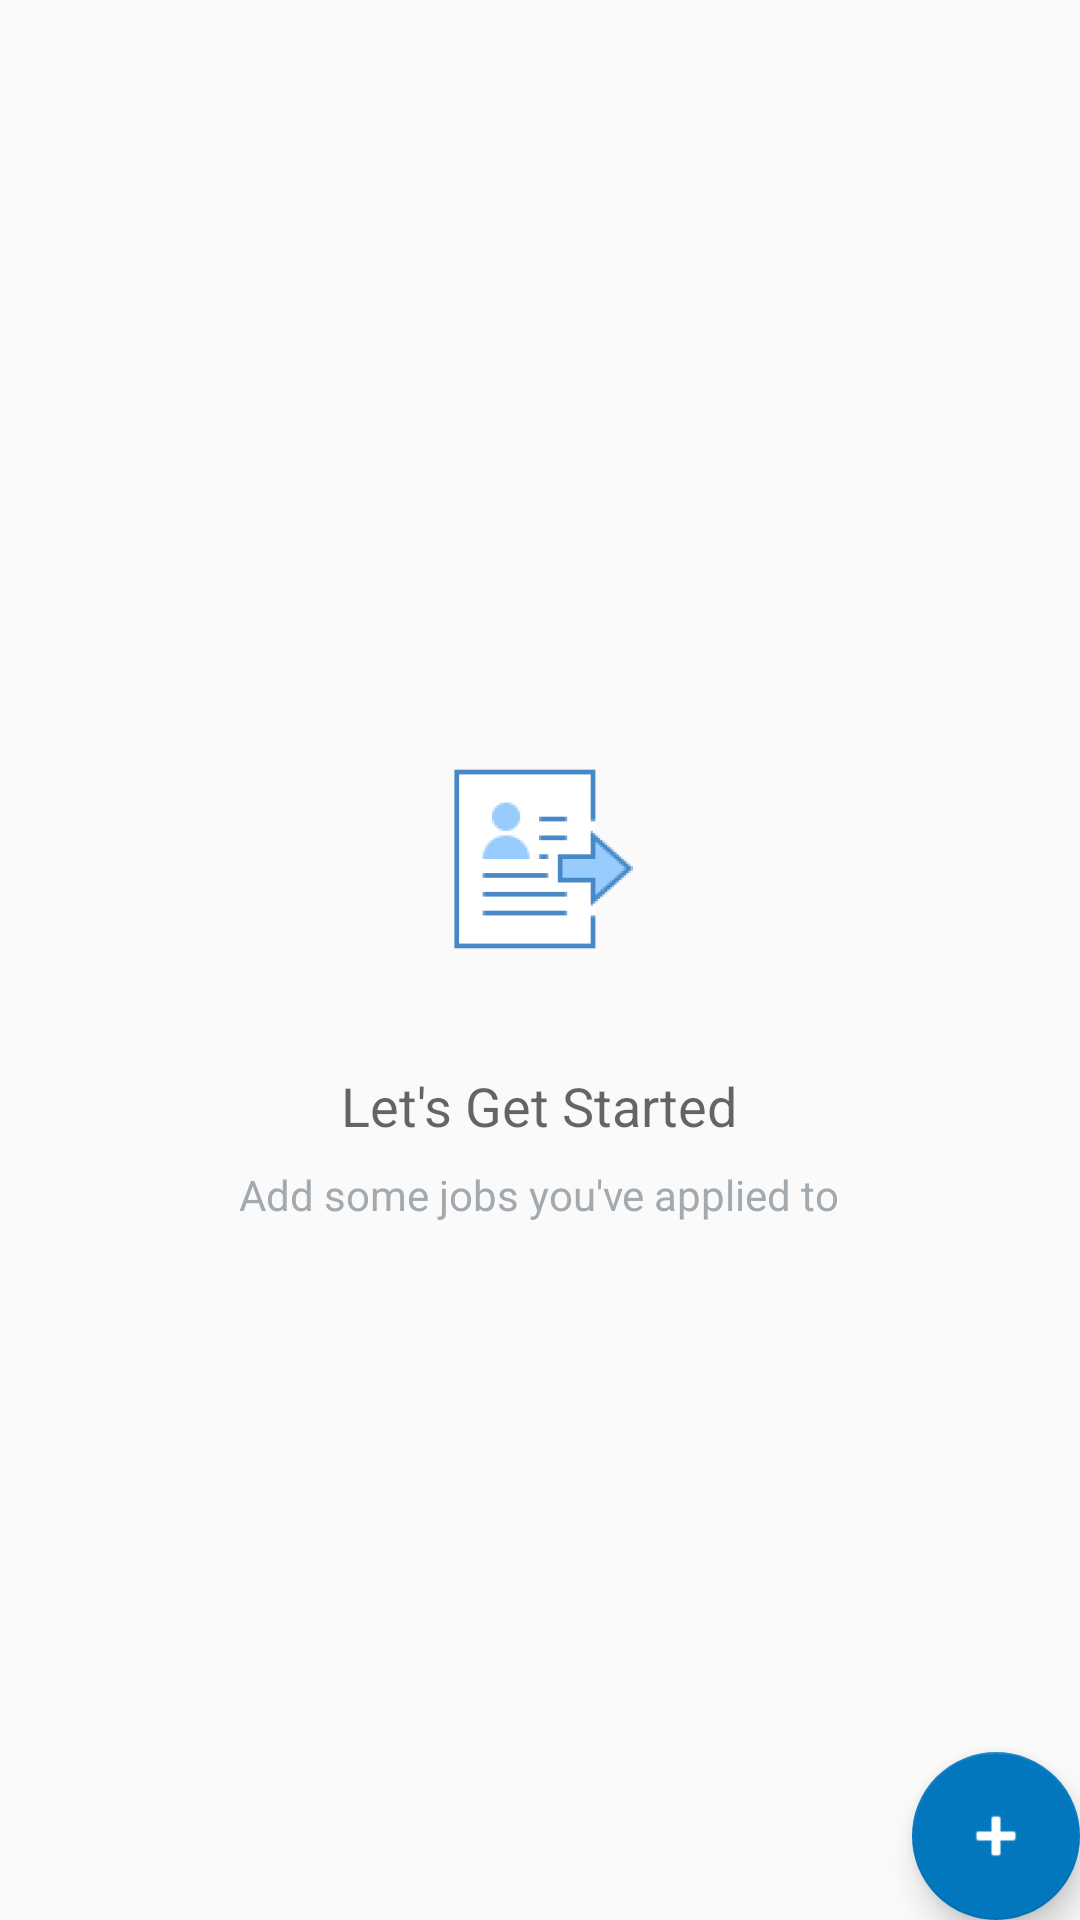

Named icons in this screenshot (1080px x 1920px) and their centers, (x=x, y=y):
add: (x=996, y=1836)
application clipart: (x=543, y=859)
